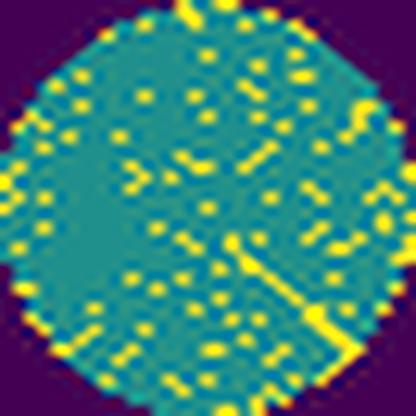Scratch: (222, 230, 368, 391)
